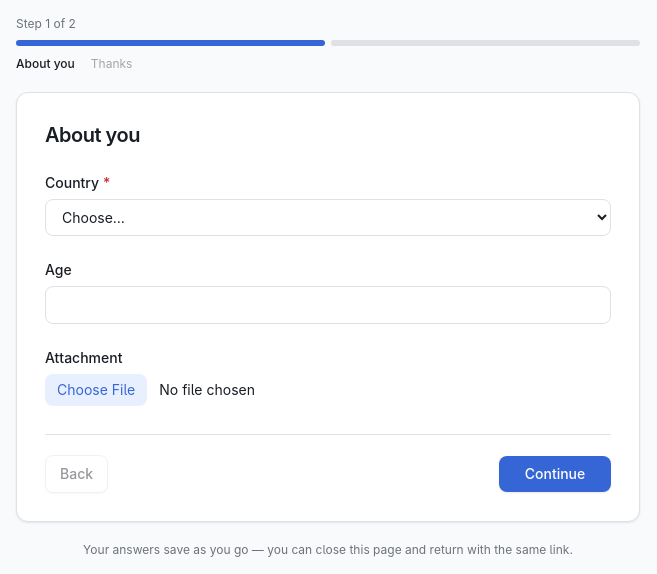
Scenario: required fields › advances once the required answer is given
The width and height of the screenshot is (657, 574).
Expected: the heading "About you" is shown, [45,123,140,147]
Step 1. Select "Egypt" in the dropdown labelled "Country*" → (328, 218), box [45,199,611,236]
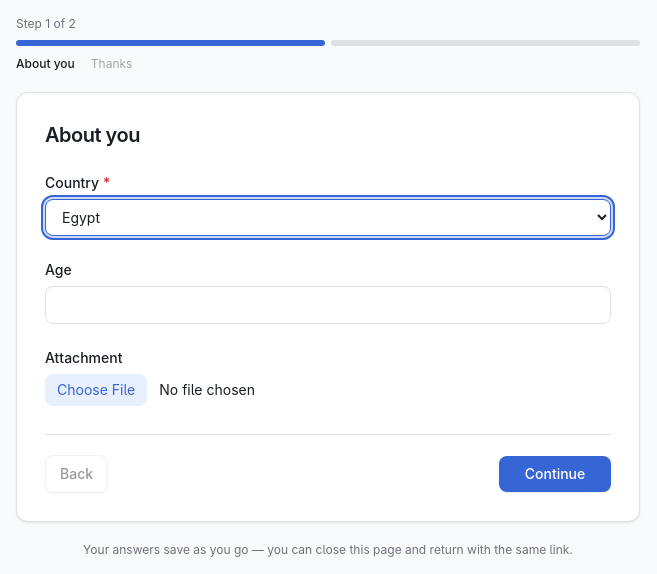
Step 2. Click the button "Continue" → (555, 474), box [499,456,611,492]
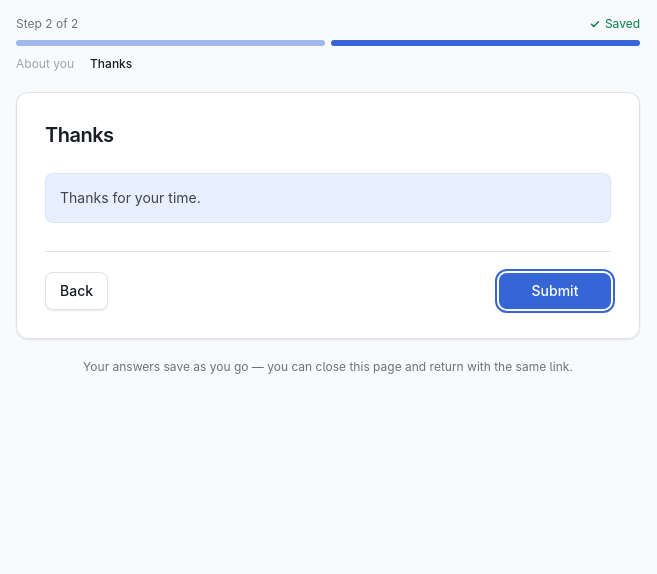
Now the text "Step 2 of 2" is shown, box [16,16,78,32]
